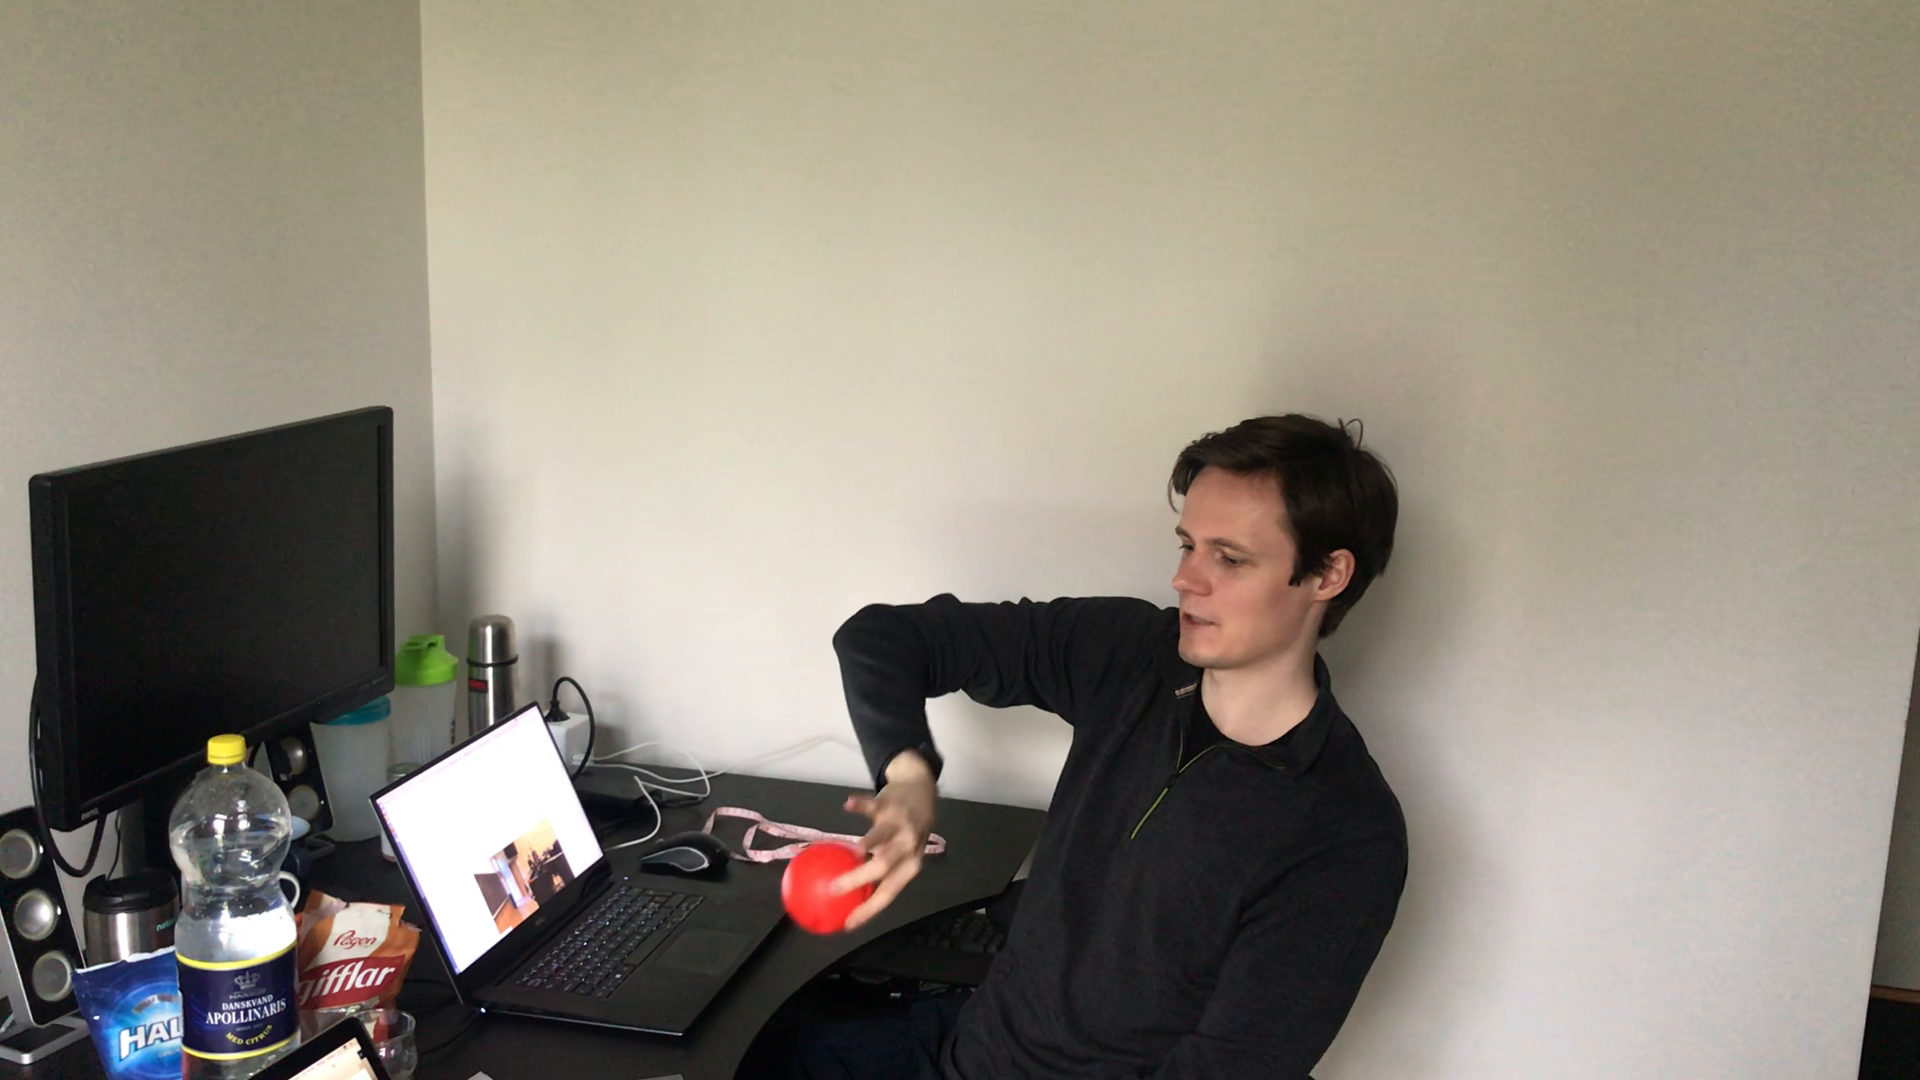Ball: (779, 848, 866, 938)
